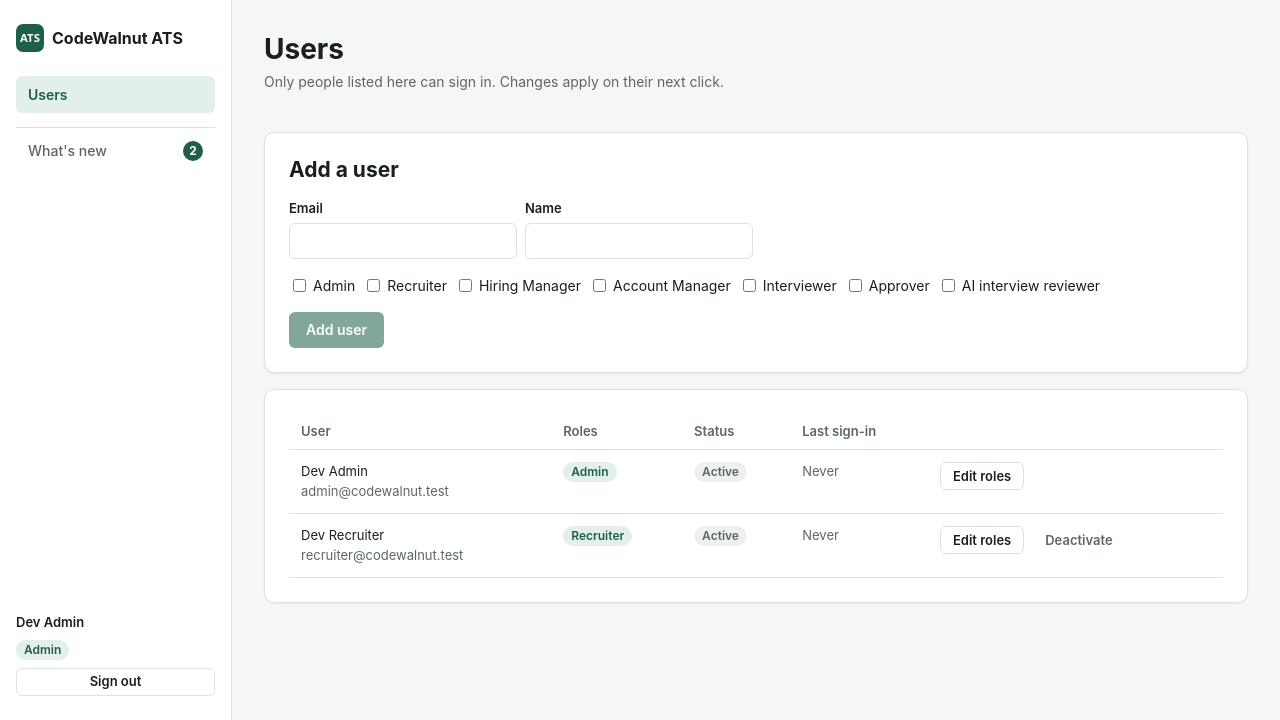
Test: UsersPage › shows the server error when creation is refused
In the field labelled "Email": (403, 241) [289,223,517,259], type "recruiter@codewalnut.test"
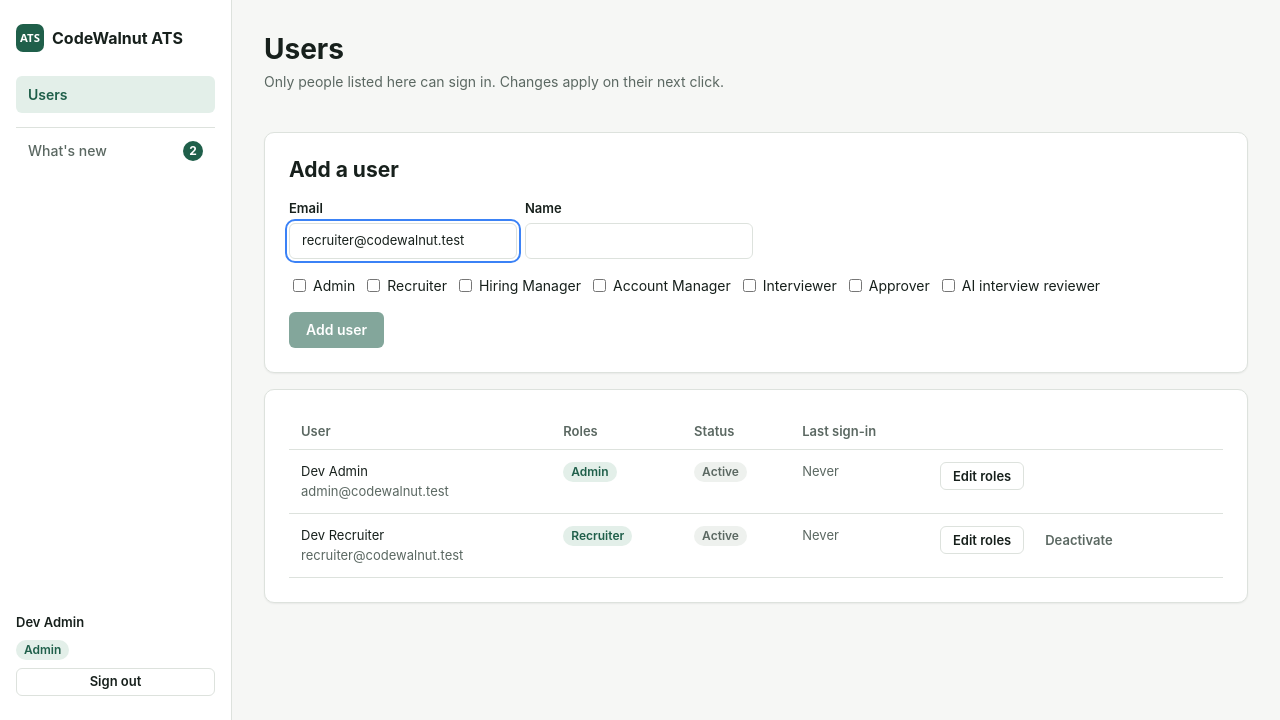
Click the checkbox labelled "Recruiter": (374, 285) [367,279,380,292]
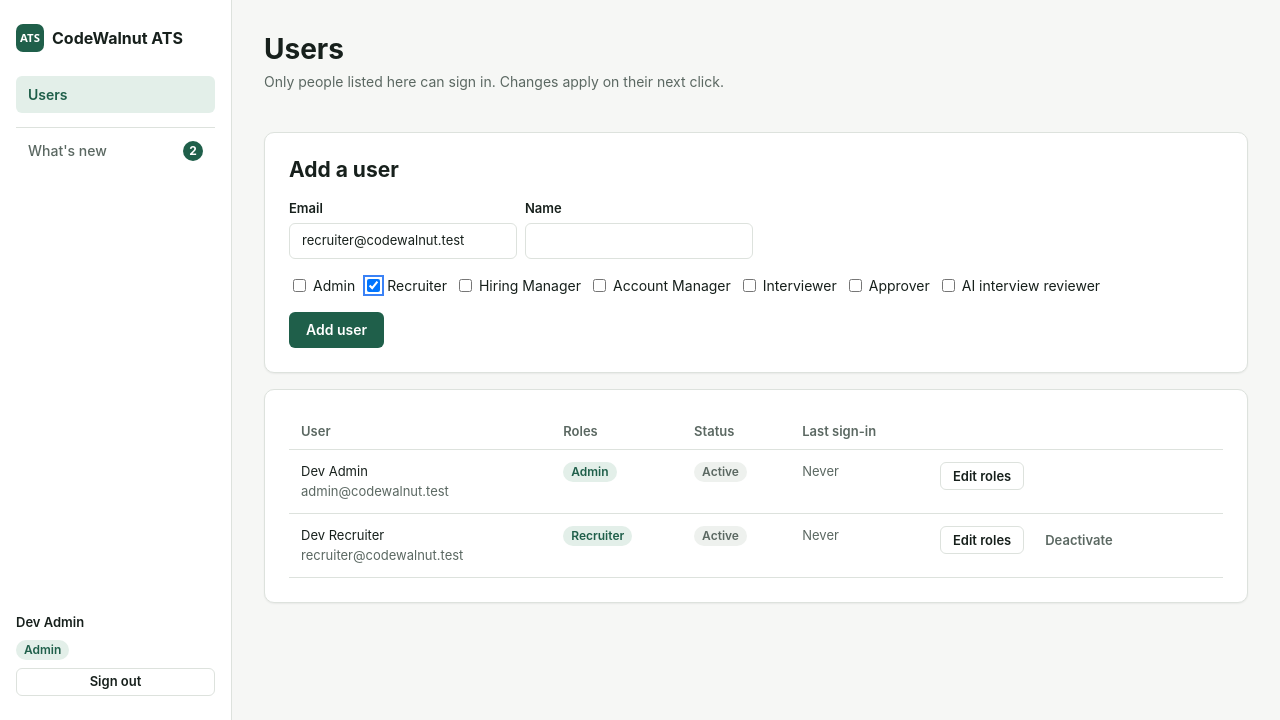
Click the button "Add user": (337, 330) [289,312,384,348]
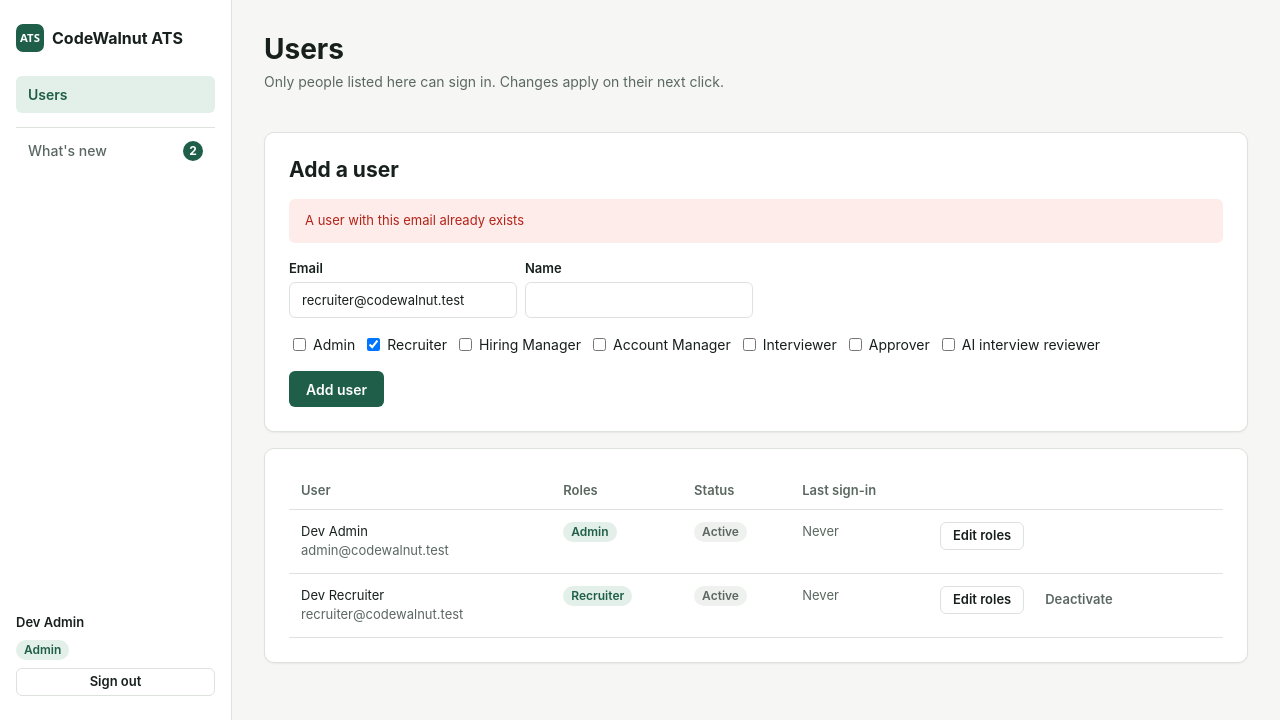
Check: the message reads "A user with this email already exists", box [305,212,524,228]
